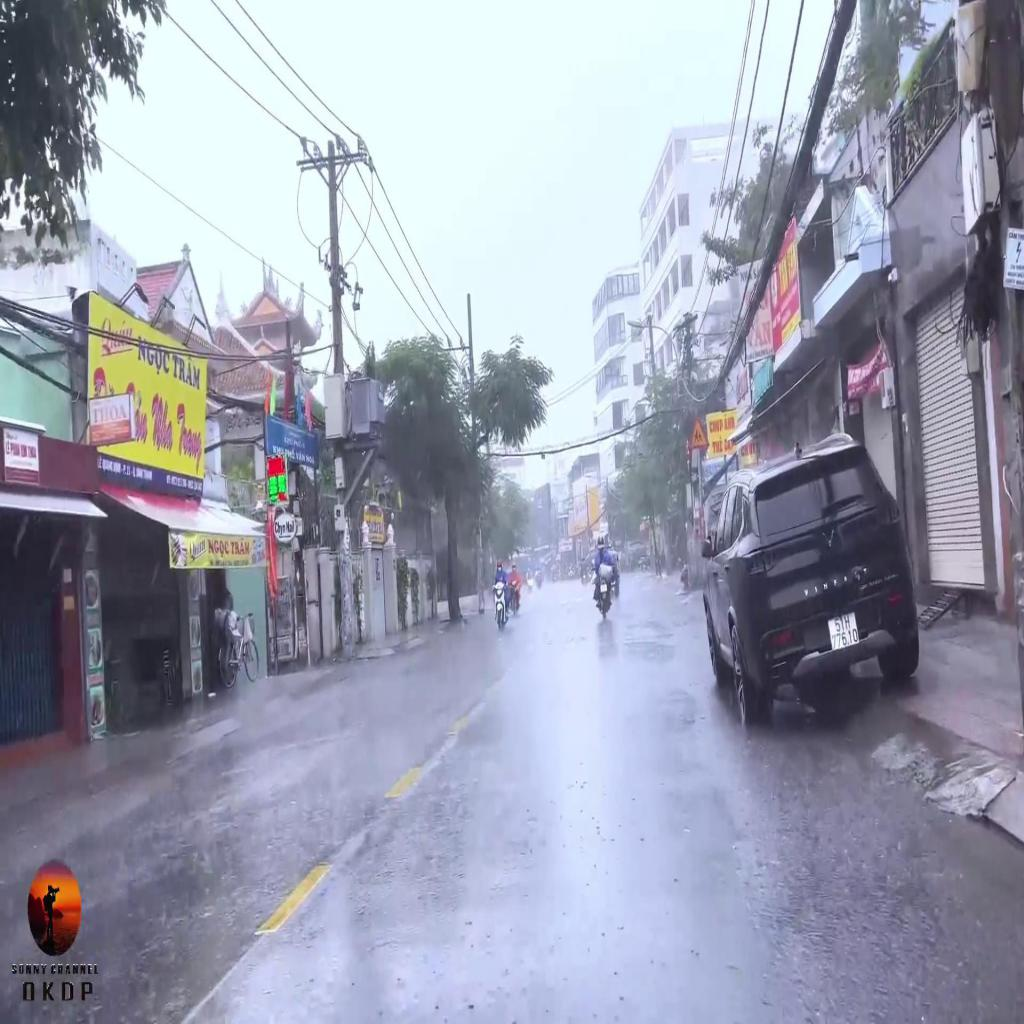chu_y_tre_em: (688, 414, 710, 452)
